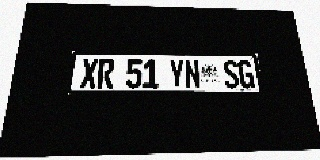1: (143, 59, 158, 88)
5: (126, 59, 142, 88)
G: (237, 60, 255, 88)
N: (184, 60, 201, 88)
R: (97, 59, 115, 88)
S: (222, 60, 240, 88)
X: (80, 59, 98, 88)
Y: (169, 60, 185, 88)
